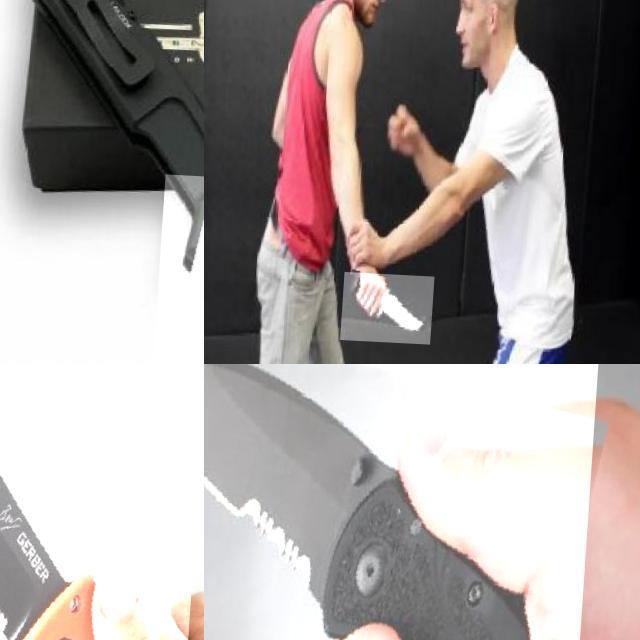-: (204, 364, 599, 640), (0, 364, 204, 640), (346, 270, 441, 340)
